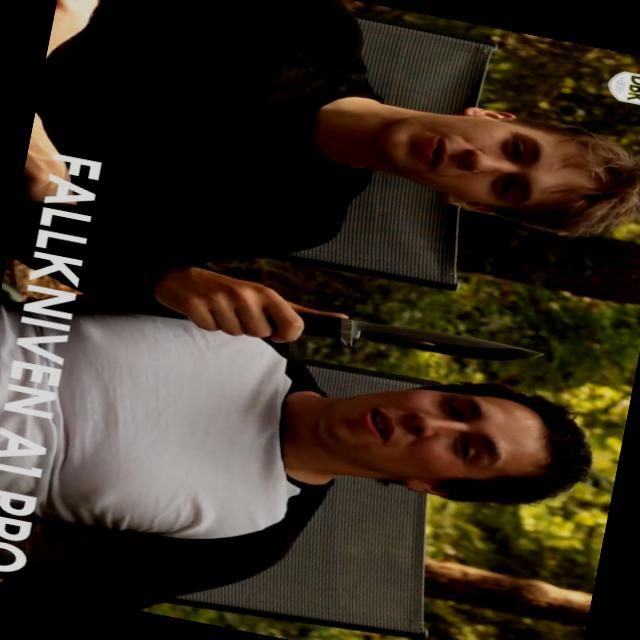knife: (206, 279, 564, 400)
